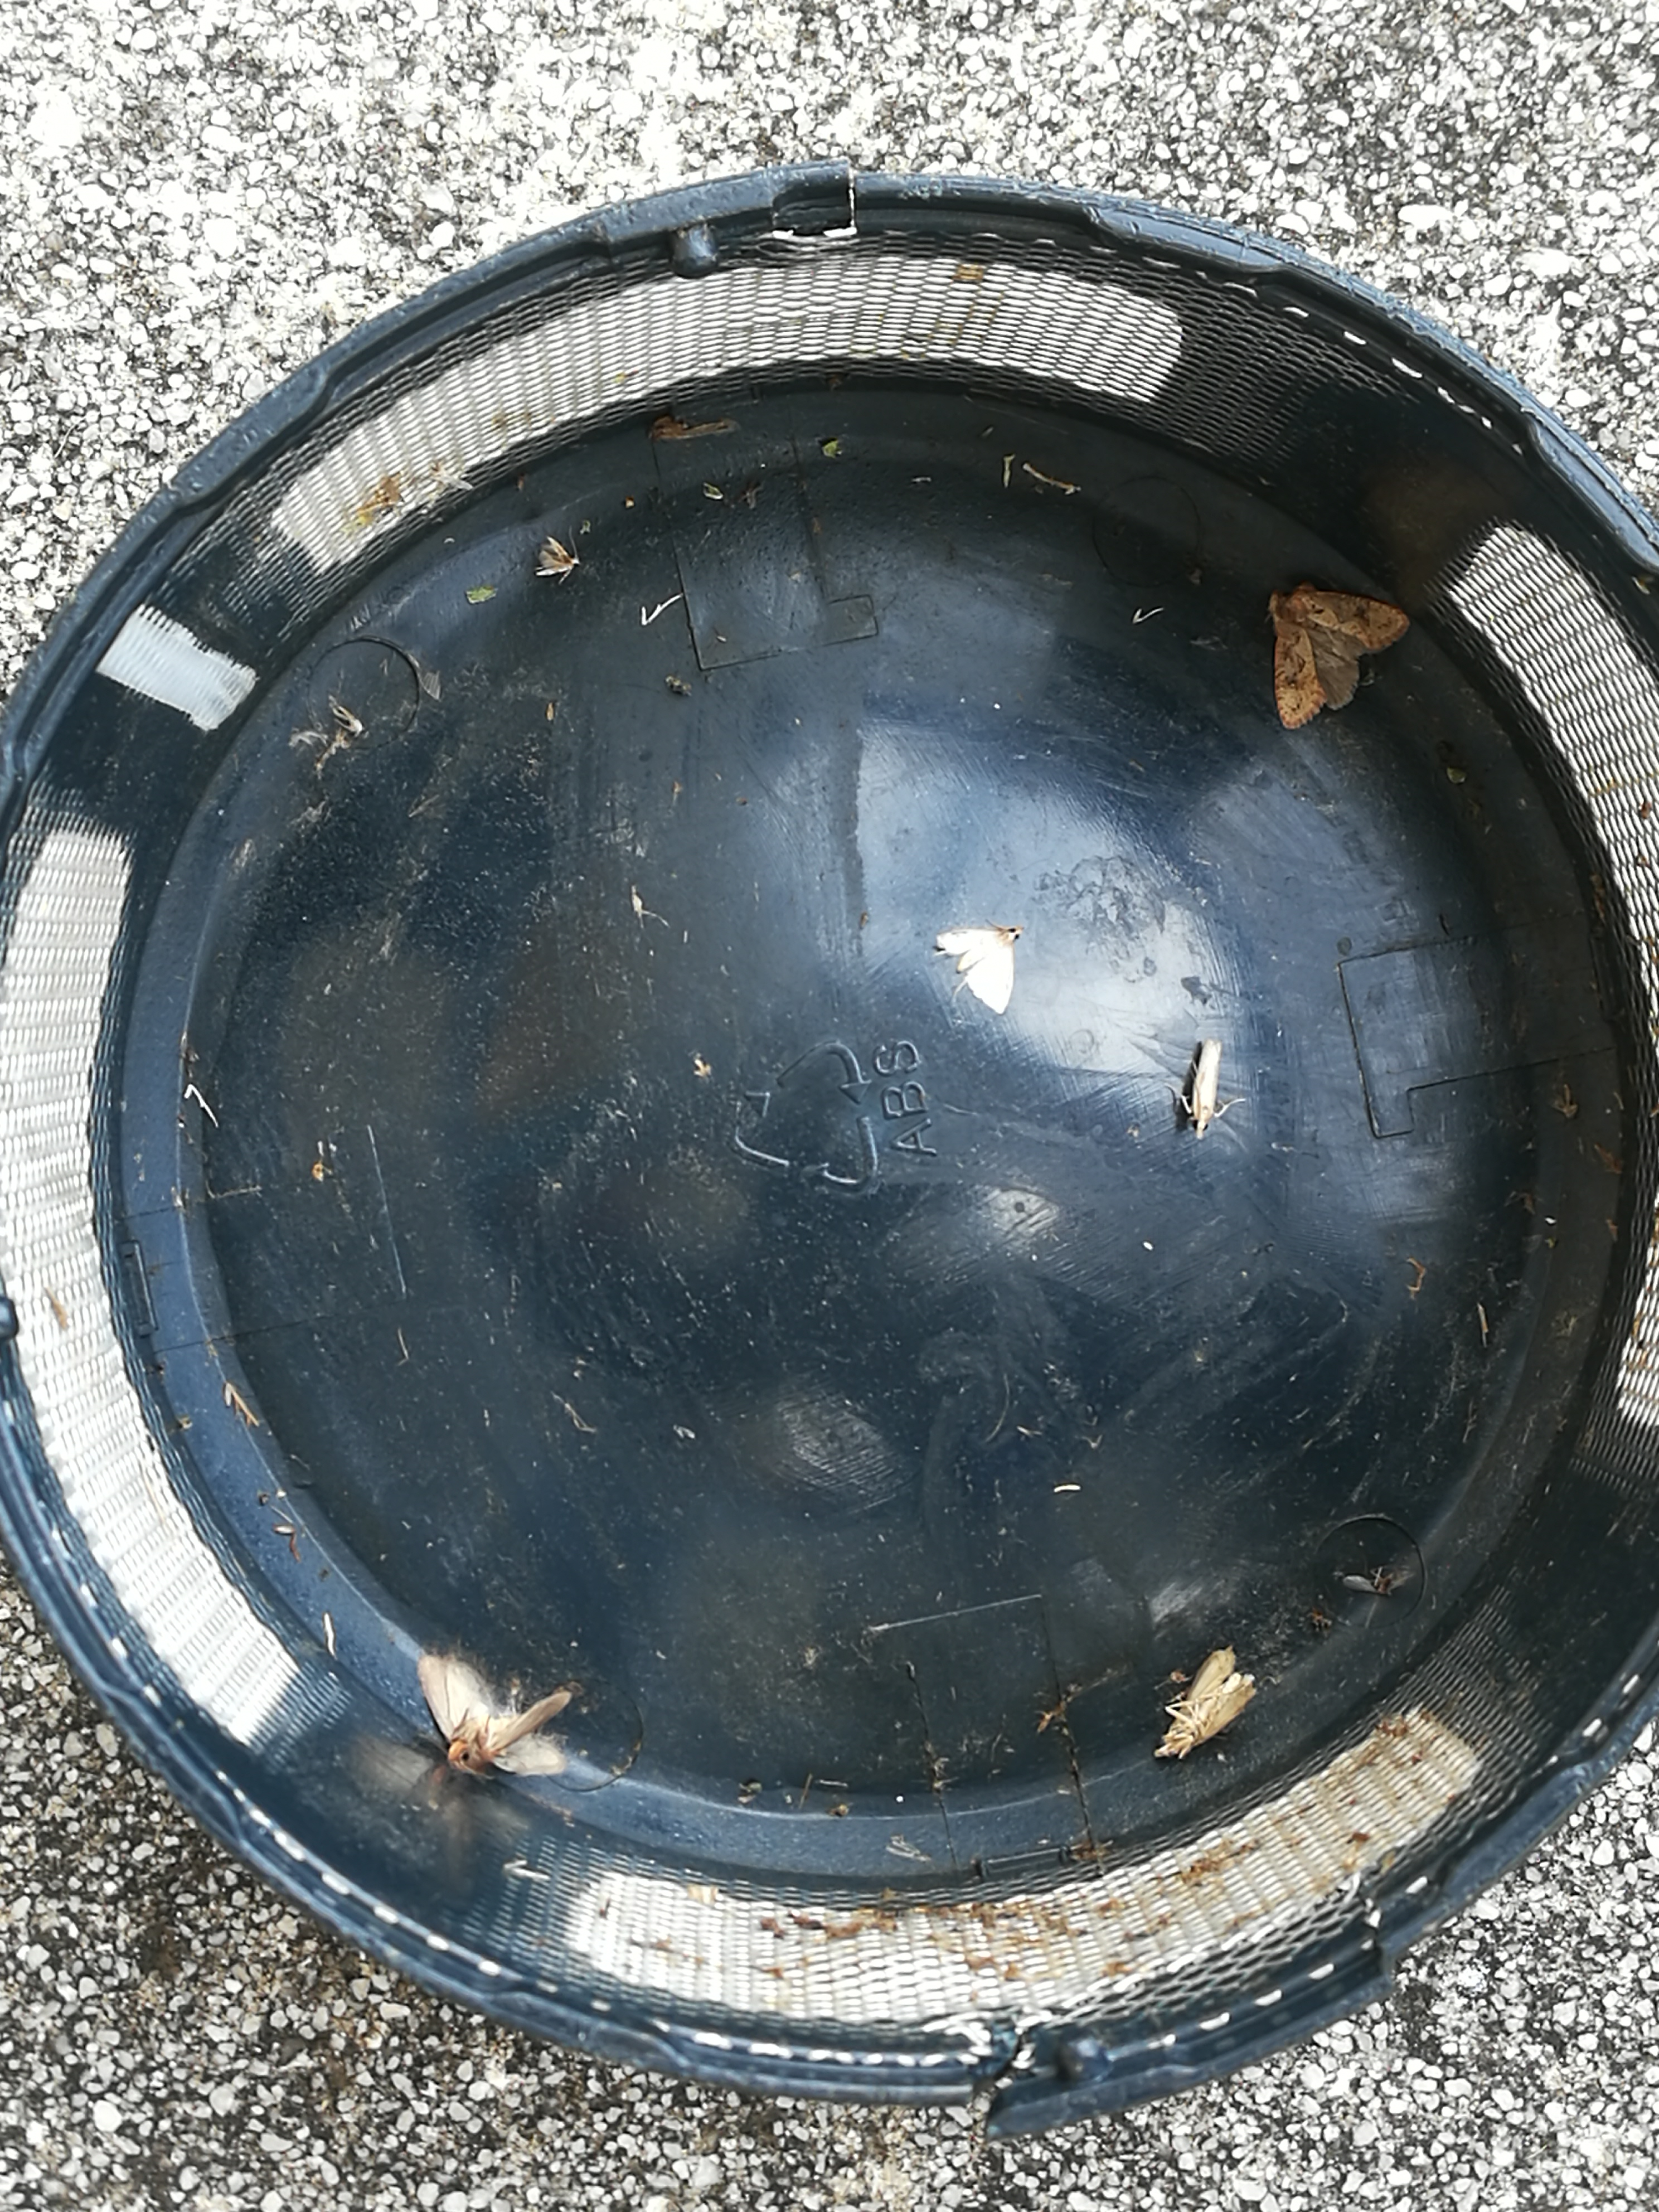mosquito: (1194, 1040, 1222, 1136), (648, 416, 737, 441)
moth: (1270, 583, 1408, 728), (416, 1655, 573, 1777), (1155, 1651, 1255, 1757), (936, 927, 1019, 1014), (537, 538, 575, 575)
